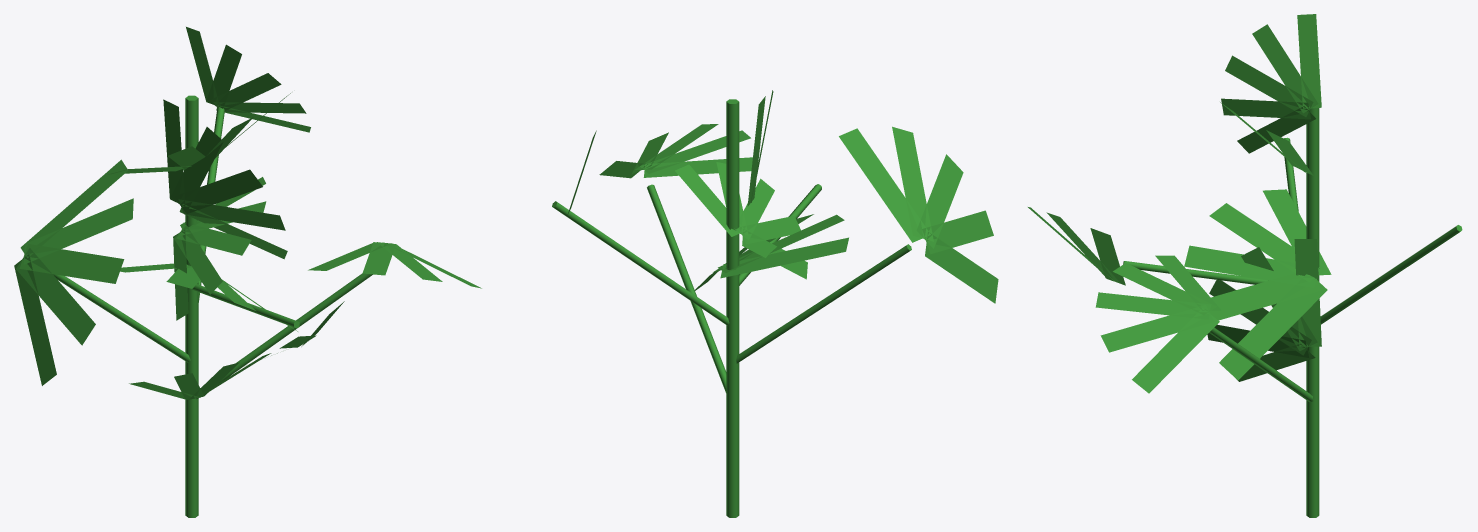
Rendered from plant-stage--push-veg.glb.
3 renders of one model, left to right at view 1: azimuth 30°, elevation 25°; view 2: azimuth 150°, elevation 25°; view 3: azimuth 270°, elevation 25°, orthographic.
Parts seen in each view (by area): view 1: plant_leaves, plant_stem; view 2: plant_leaves, plant_stem; view 3: plant_leaves, plant_stem.
Boxes of the visible parts, box(x1,y1,x2,y2) form: plant_leaves: box(14, 27, 481, 399); plant_stem: box(53, 95, 372, 517); plant_leaves: box(567, 90, 998, 303); plant_stem: box(552, 99, 911, 517); plant_leaves: box(1028, 14, 1331, 393); plant_stem: box(1123, 108, 1462, 517).
Bounding box in the file's own units: 0.5115 × 0.5782 × 0.4609.
